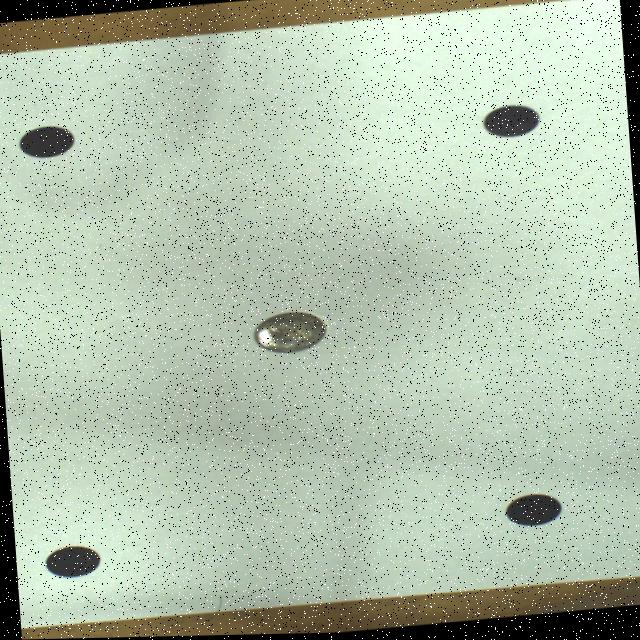space: (482, 106, 539, 139), (505, 496, 562, 527), (45, 545, 100, 577), (18, 125, 73, 157)
tail1bath: (255, 312, 326, 353)
